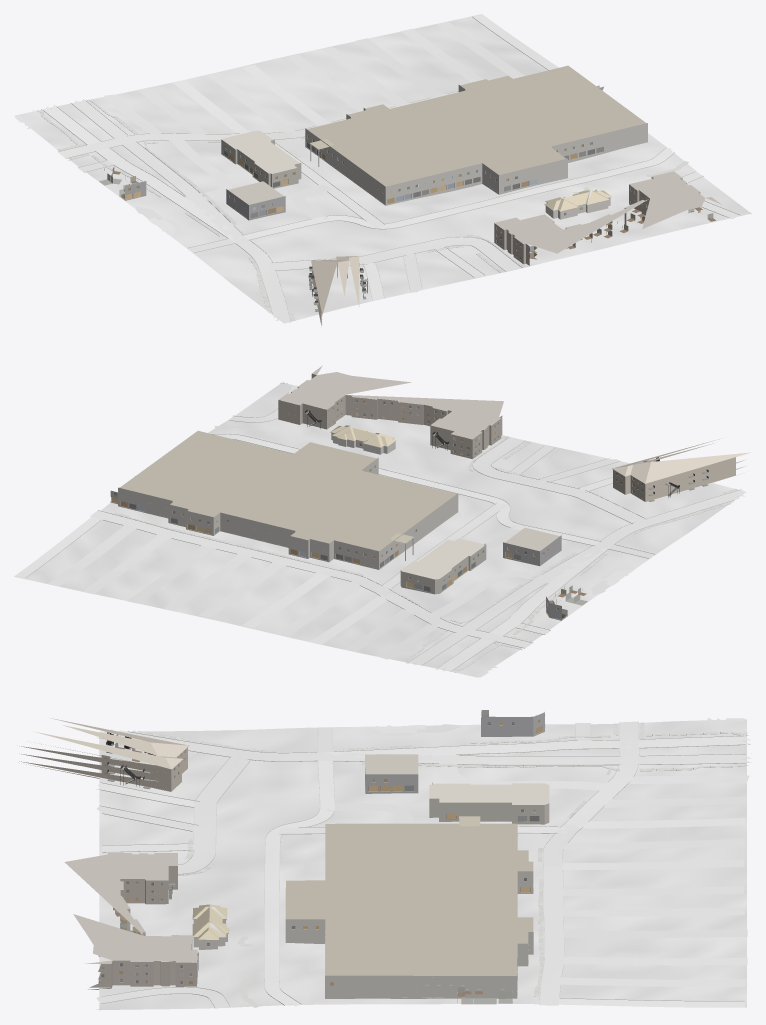
3 views of the same model, one above another, from view 1: azimuth 30°, elevation 25°; view 2: azimuth 150°, elevation 25°; view 3: azimuth 270°, elevation 25° (orthographic). The views are drawn at different scales.
Visible parts, largest first — view 1: ground, roof_flat, concrete, wall_com, asphalt, roof, curb, walk, wall, room, glass_lit, detail (+2 smaller); view 2: ground, roof_flat, concrete, asphalt, wall_com, roof, wall, curb, walk, detail, glass_lit, glass; view 3: ground, roof_flat, concrete, asphalt, wall_com, roof, wall, curb, walk, detail, room, glass_lit (+1 smaller).
Boxes of the visible parts, x1=… form: ground: x1=15, y1=14, x2=749, y2=323; roof_flat: x1=222, y1=65, x2=646, y2=204; concrete: x1=14, y1=14, x2=739, y2=300; wall_com: x1=125, y1=85, x2=647, y2=220; asphalt: x1=45, y1=91, x2=458, y2=322; roof: x1=311, y1=171, x2=721, y2=314; curb: x1=41, y1=16, x2=740, y2=321; walk: x1=37, y1=99, x2=751, y2=320; wall: x1=312, y1=177, x2=700, y2=325; room: x1=99, y1=85, x2=715, y2=278; glass_lit: x1=125, y1=89, x2=647, y2=250; detail: x1=99, y1=135, x2=715, y2=311; ground: x1=14, y1=383, x2=745, y2=677; roof_flat: x1=119, y1=430, x2=559, y2=579; concrete: x1=15, y1=385, x2=654, y2=677; asphalt: x1=90, y1=489, x2=745, y2=671; wall_com: x1=110, y1=457, x2=561, y2=620; roof: x1=278, y1=365, x2=751, y2=483; wall: x1=278, y1=373, x2=745, y2=501; curb: x1=25, y1=383, x2=740, y2=671; walk: x1=112, y1=382, x2=737, y2=672; detail: x1=112, y1=400, x2=716, y2=619; glass_lit: x1=111, y1=400, x2=638, y2=619; glass: x1=114, y1=399, x2=642, y2=610; ground: x1=99, y1=719, x2=746, y2=1010; roof_flat: x1=285, y1=754, x2=549, y2=977; concrete: x1=96, y1=718, x2=749, y2=1008; asphalt: x1=100, y1=721, x2=751, y2=1005; wall_com: x1=285, y1=712, x2=549, y2=998; roof: x1=34, y1=718, x2=229, y2=963; wall: x1=19, y1=746, x2=197, y2=989; curb: x1=98, y1=721, x2=749, y2=1008; walk: x1=96, y1=722, x2=747, y2=1009; detail: x1=41, y1=712, x2=545, y2=1003; room: x1=98, y1=710, x2=539, y2=1004; glass_lit: x1=120, y1=719, x2=542, y2=985.
Bounding box in the file's own units: 254 × 16.28 × 285.
